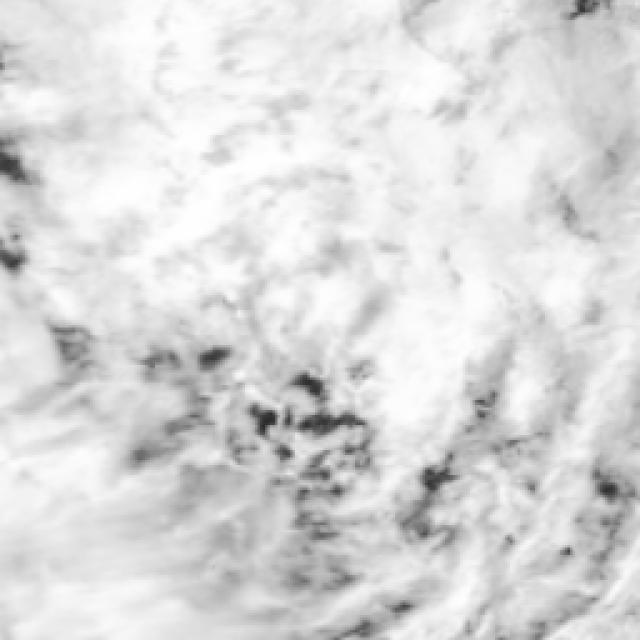CB: (20, 0, 258, 187), (420, 210, 640, 406), (200, 178, 434, 352), (0, 332, 182, 555), (257, 11, 459, 197), (460, 5, 640, 212), (12, 481, 242, 640), (38, 181, 230, 345)
